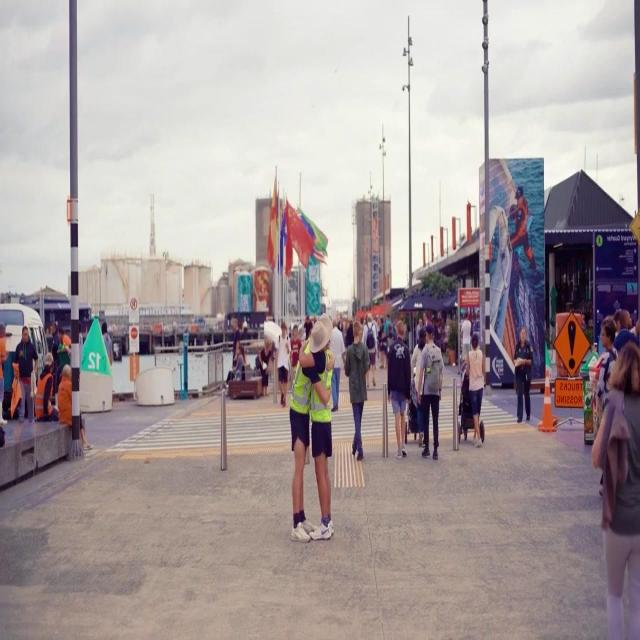Reflective-Jacket: (307, 342, 334, 422), (290, 353, 310, 415), (34, 369, 54, 421), (56, 377, 75, 422)
Safety-Helmet: (515, 183, 524, 197)
